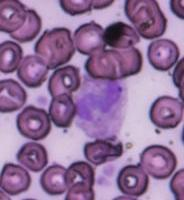N: (75, 78, 127, 142)
